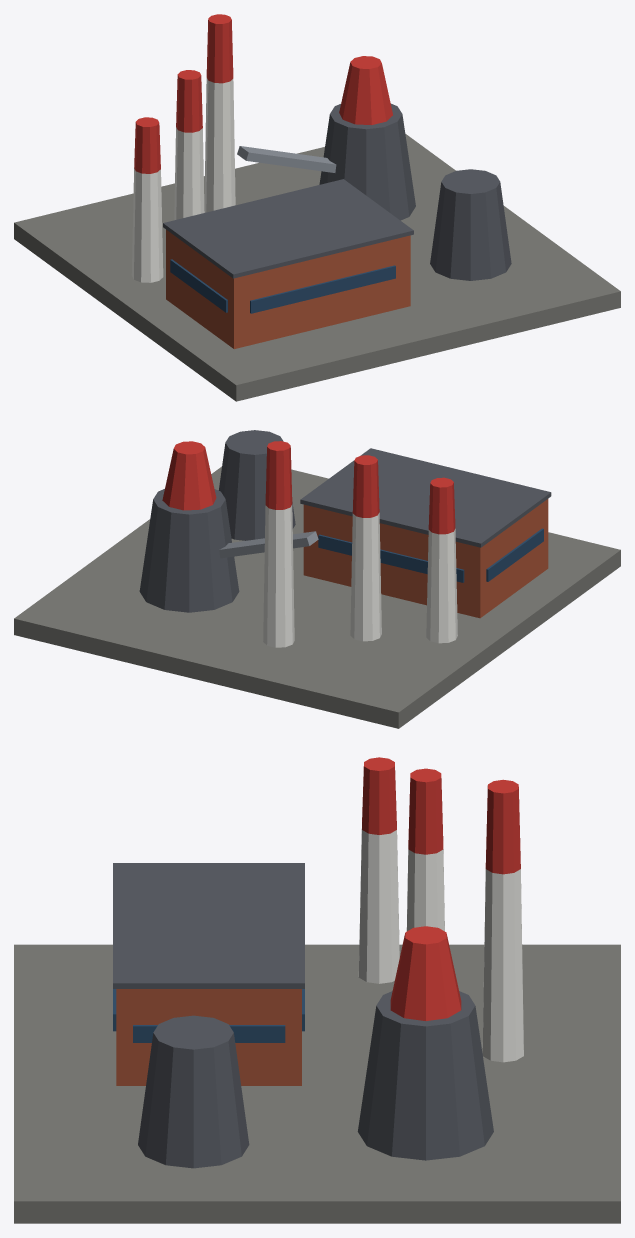
The model's file is metal_rent_3.glb.
The picture shows the model from 3 angles, top to bottom: view 1: azimuth 30°, elevation 25°; view 2: azimuth 150°, elevation 25°; view 3: azimuth 270°, elevation 25°; orthographic projection. The views are drawn at different scales.
Visible parts, largest first — view 1: metal_rent_3; view 2: metal_rent_3; view 3: metal_rent_3.
Part boxes in pixels (x1,y1,x2,y2): metal_rent_3: [14, 14, 620, 401]; metal_rent_3: [14, 430, 620, 728]; metal_rent_3: [14, 757, 620, 1223].
Size of the model in its own units: 1.96 by 1.03 by 1.96.
